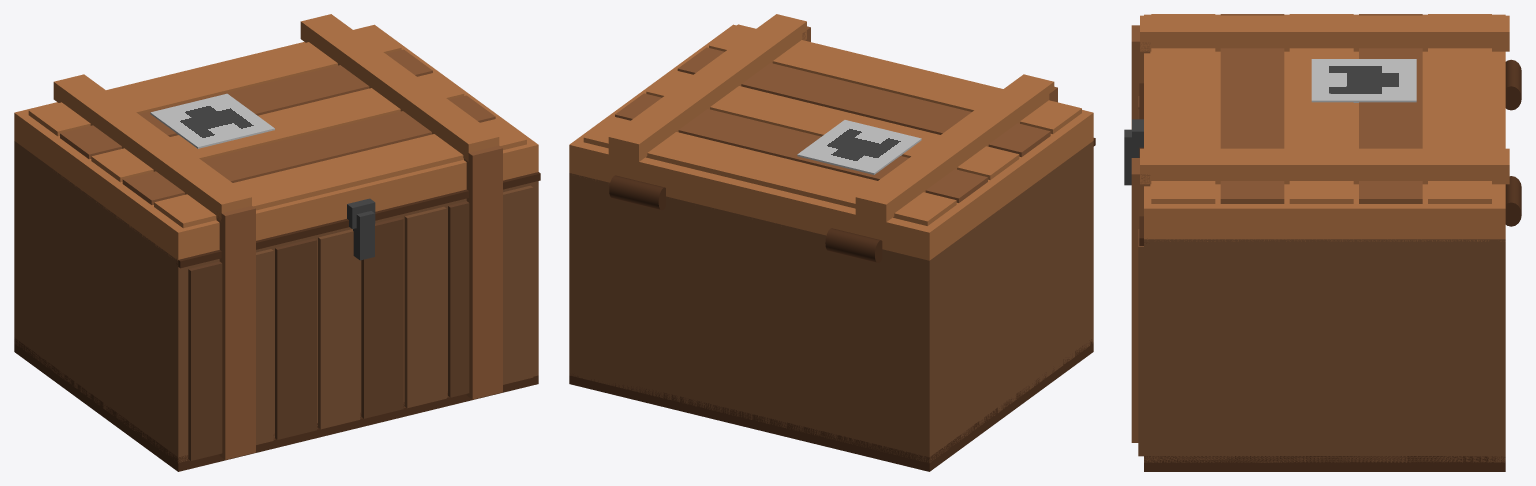
Rendered from CMU3DInheritedCratesSupplyCloud.glb.
3 views of the same model, side by side, from view 1: azimuth 30°, elevation 25°; view 2: azimuth 150°, elevation 25°; view 3: azimuth 270°, elevation 25° (orthographic). The views are drawn at different scales.
Parts seen in each view (by area): view 1: side structural wall -1, separate solid closed lid, raised lid wood plank 0, front batten return -0.3, front batten return 0.3, front plank 5, raised lid wood plank 1, raised lid wood plank 4, front plank 2, front plank 3, lid cross batten 0.3, lid cross batten -0.3 (+13 smaller); view 2: rear structural wall, side structural wall -1, separate solid closed lid, raised lid wood plank 4, lid cross batten 0.3, lid cross batten -0.3, raised lid wood plank 1, raised lid wood plank 0, bottom structural pan, raised lid wood plank 2, raised lid wood plank 3, original recessed supply pictogram (+3 smaller); view 3: side structural wall 1, separate solid closed lid, lid cross batten -0.3, lid cross batten 0.3, raised lid wood plank 0, raised lid wood plank 1, raised lid wood plank 4, raised lid wood plank 2, raised lid wood plank 3, bottom structural pan, original recessed supply pictogram, front structural wall (+7 smaller).
Boxes of the visible parts, <box> form: side structural wall -1: <box>14,141,191,462</box>; separate solid closed lid: <box>14,24,538,260</box>; raised lid wood plank 0: <box>154,118,526,228</box>; front batten return -0.3: <box>216,206,255,459</box>; front batten return 0.3: <box>464,145,502,399</box>; front plank 5: <box>404,206,446,408</box>; raised lid wood plank 1: <box>122,95,495,204</box>; raised lid wood plank 4: <box>28,26,401,136</box>; front plank 2: <box>275,238,316,439</box>; front plank 3: <box>318,229,360,429</box>; lid cross batten 0.3: <box>300,14,499,161</box>; lid cross batten -0.3: <box>53,74,251,221</box>; rear structural wall: <box>569,173,936,462</box>; side structural wall -1: <box>916,141,1093,462</box>; separate solid closed lid: <box>569,24,1093,260</box>; raised lid wood plank 4: <box>583,116,956,225</box>; lid cross batten 0.3: <box>608,14,806,161</box>; lid cross batten -0.3: <box>855,74,1054,222</box>; raised lid wood plank 1: <box>677,47,1050,157</box>; raised lid wood plank 0: <box>709,24,1081,133</box>; bottom structural pan: <box>569,339,1093,471</box>; raised lid wood plank 2: <box>646,70,1019,179</box>; raised lid wood plank 3: <box>615,93,987,202</box>; original recessed supply pictogram: <box>797,120,921,174</box>; side structural wall 1: <box>1144,239,1505,462</box>; separate solid closed lid: <box>1144,14,1505,241</box>; lid cross batten -0.3: <box>1140,15,1509,51</box>; lid cross batten 0.3: <box>1140,148,1509,184</box>; raised lid wood plank 0: <box>1151,14,1215,203</box>; raised lid wood plank 1: <box>1220,14,1284,203</box>; raised lid wood plank 4: <box>1428,14,1491,203</box>; raised lid wood plank 2: <box>1289,14,1353,203</box>; raised lid wood plank 3: <box>1359,14,1422,203</box>; bottom structural pan: <box>1144,456,1505,471</box>; original recessed supply pictogram: <box>1311,59,1416,102</box>; front structural wall: <box>1144,239,1160,462</box>.
Bounding box in the file's own units: 0.875 × 0.6 × 0.759.
7 materials, 1 textured.
